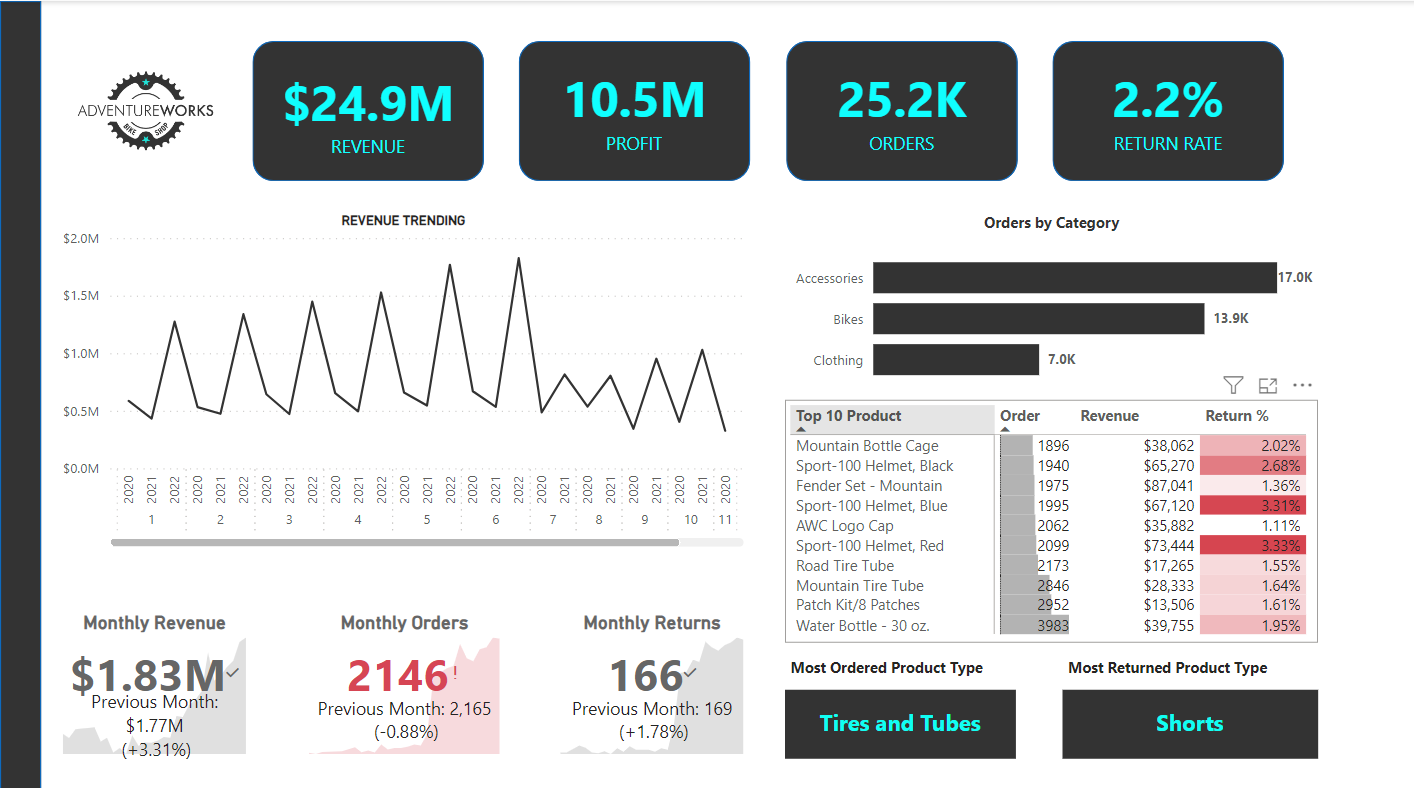

The dashboard page shown, as its layout file describes it:
{"tool":"powerbi","page":{"name":"DASHBOARD","canvas":[1280,720],"ordinal":0},"visuals":[{"type":"image","title":"AW LOGO","box":[52.3,36,160.5,126.7],"z":0},{"type":"shape","box":[227.9,36,209.3,126.7],"z":0,"group":"g2"},{"type":"shape","title":"LEFT NAV BACKGROUND","box":[0,0,37.2,719.8],"z":1000},{"type":"shape","box":[469,36,209.3,126.7],"z":1000,"group":"g2"},{"type":"group","id":"g1","title":"KPI VALUES AND KPI","box":[227.9,36,932.6,126.7],"z":2000},{"type":"group","id":"g2","title":"KPI BACKGROUND","box":[227.9,36,932.6,126.7],"z":2000,"group":"g1"},{"type":"shape","box":[710.1,36,209.3,126.7],"z":2000,"group":"g2"},{"type":"shape","box":[951.2,36,209.3,126.7],"z":3000,"group":"g2"},{"type":"card","fields":{"Values":["Measure Table.Total Revenue"]},"box":[227.9,39.5,209.3,123.3],"z":3000,"group":"g1"},{"type":"lineChart","title":"                              REVENUE TRENDING","fields":{"Y":["Measure Table.Total Revenue"],"Category":["Calendar Lookup.Month","Calendar Lookup.Year","Calendar Lookup.Start of Quarter"]},"box":[52.2,191.1,625.6,307.8],"z":3000},{"type":"card","fields":{"Values":["Measure Table.Total Profit"]},"box":[468.6,36,209.3,123.3],"z":4000,"group":"g1"},{"type":"kpi","title":"Monthly Revenue","fields":{"Indicator":["Measure Table.Total Revenue"],"TrendLine":["Calendar Lookup.Start of Month"],"Goal":["Measure Table.Previous month Revenue"]},"box":[52.2,551.1,175.6,134.4],"z":4000},{"type":"card","fields":{"Values":["Measure Table.Total Order"]},"box":[710.5,36,209.3,123.3],"z":5000,"group":"g1"},{"type":"kpi","title":"Monthly Orders","fields":{"TrendLine":["Calendar Lookup.Start of Month"],"Indicator":["Measure Table.Total Order"],"Goal":["Measure Table.Previous month Orders"]},"box":[274.4,551.1,182.2,134.4],"z":5000},{"type":"card","fields":{"Values":["Measure Table.Return Rate"]},"box":[951.2,36,209.3,123.3],"z":6000,"group":"g1"},{"type":"kpi","title":"Monthly Returns","fields":{"TrendLine":["Calendar Lookup.Start of Month"],"Indicator":["Measure Table.Total Returns"],"Goal":["Measure Table.Previous month returns"]},"box":[502.2,551.1,175.6,134.4],"z":6000},{"type":"clusteredBarChart","title":"Orders by Category","fields":{"Category":["Product Categories Lookup.CategoryName"],"Y":["Measure Table.Total Order"]},"box":[710,191.1,482.2,168.9],"z":7000},{"type":"pivotTable","fields":{"Rows":["Product Lookup.ProductName"],"Values":["Measure Table.Total Order","Measure Table.Total Revenue","Measure Table.Return Rate"]},"box":[710,360,482.2,220],"z":8000},{"type":"card","fields":{"Values":["Min(Product Subcategories Lookup.SubcategoryName)"]},"box":[710,623.3,208.9,62.2],"z":9000},{"type":"textbox","box":[710,588.9,208.9,30],"z":10000},{"type":"card","fields":{"Values":["Min(Product Subcategories Lookup.SubcategoryName)"]},"box":[961.1,623.3,231.1,62.2],"z":11000},{"type":"textbox","box":[961.1,588.9,231.1,30],"z":12000}]}

Visuals, with their boxes in screenshot pixels (x1, y1, x2, y2), scaled from the page's 1280x720 canvas onto the 1414x788 screenshot:
"AW LOGO" image: 58 39 235 178
shape: 252 39 483 178
"LEFT NAV BACKGROUND" shape: 0 0 41 787
shape: 518 39 749 178
"KPI VALUES AND KPI" group: 252 39 1282 178
"KPI BACKGROUND" group: 252 39 1282 178
shape: 784 39 1016 178
shape: 1051 39 1282 178
card - Measure Table.Total Revenue: 252 43 483 178
"                              REVENUE TRENDING" lineChart: 58 209 749 546
card - Measure Table.Total Profit: 518 39 749 174
"Monthly Revenue" kpi: 58 603 252 750
card - Measure Table.Total Order: 785 39 1016 174
"Monthly Orders" kpi: 303 603 504 750
card - Measure Table.Return Rate: 1051 39 1282 174
"Monthly Returns" kpi: 555 603 749 750
"Orders by Category" clusteredBarChart: 784 209 1317 394
pivotTable - Product Lookup.ProductName x Measure Table.Total Order: 784 394 1317 635
card - Min(Product Subcategories Lookup.SubcategoryName): 784 682 1015 750
textbox: 784 645 1015 677
card - Min(Product Subcategories Lookup.SubcategoryName): 1062 682 1317 750
textbox: 1062 645 1317 677
